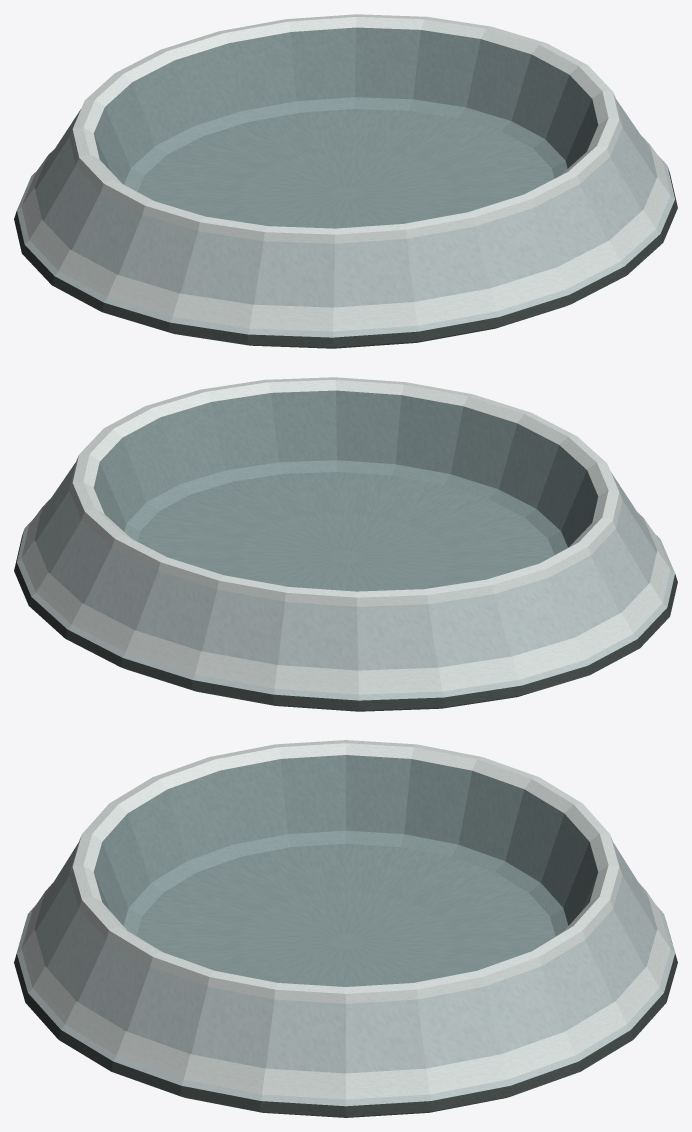
The model's file is food_bowl.obj.
The picture shows the model from 3 angles, top to bottom: view 1: azimuth 30°, elevation 25°; view 2: azimuth 150°, elevation 25°; view 3: azimuth 270°, elevation 25°; orthographic projection. The views are drawn at different scales.
Visible parts, largest first — view 1: food_bowl; view 2: food_bowl; view 3: food_bowl.
Part boxes in pixels (left/top/right/bottom): food_bowl: left=14, top=14, right=677, bottom=348; food_bowl: left=14, top=377, right=677, bottom=711; food_bowl: left=14, top=740, right=677, bottom=1117.
Size of the model in its own units: 14.16 by 2.22 by 12.89.
Materials: 1 (1 with a texture image).
